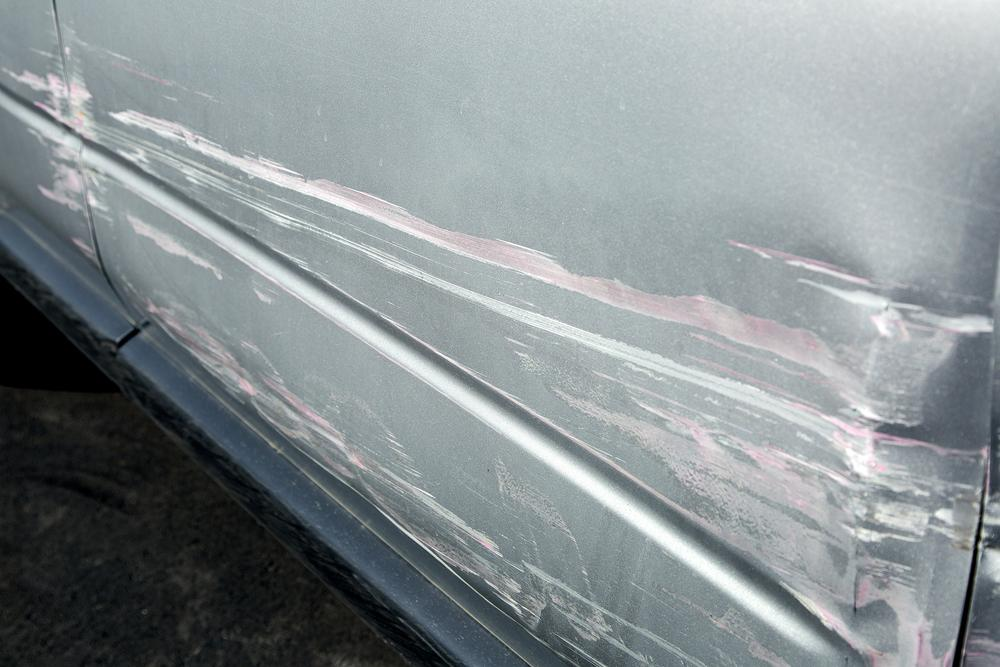dent: (619, 233, 991, 658)
scratch: (61, 48, 835, 667)
